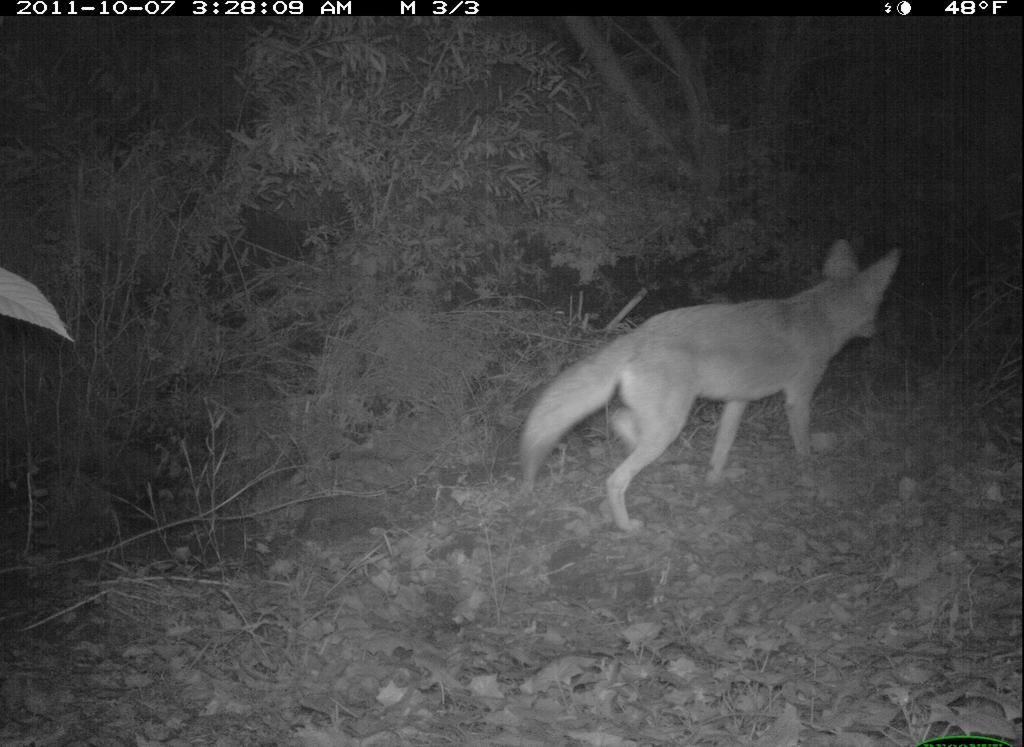coyote: (510, 221, 899, 532)
